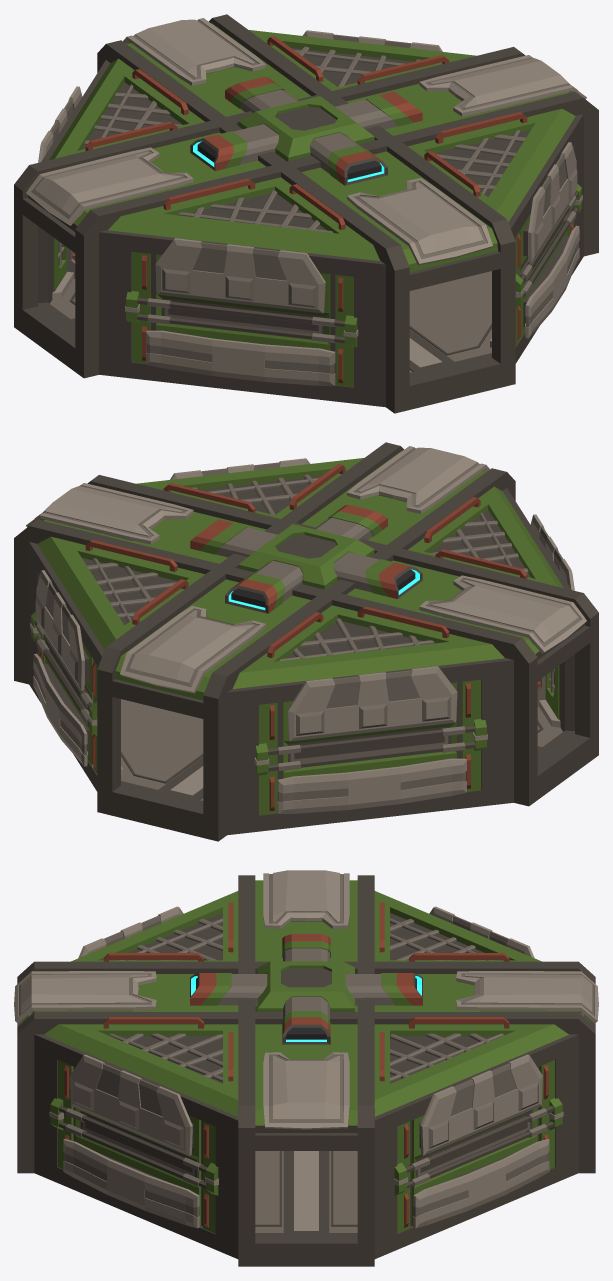
The model's file is Hub.fbx.
3 views of the same model, one above another, from view 1: azimuth 30°, elevation 25°; view 2: azimuth 150°, elevation 25°; view 3: azimuth 270°, elevation 25° (orthographic). The views are drawn at different scales.
Visible parts, largest first — view 1: Cube.004; view 2: Cube.004; view 3: Cube.004.
Boxes of the visible parts, x1,y1,x2,y2 form: Cube.004: (14,14,598,413); Cube.004: (14,442,598,841); Cube.004: (14,870,598,1266).
Bounding box in the file's own units: 1720 × 1720 × 545.
